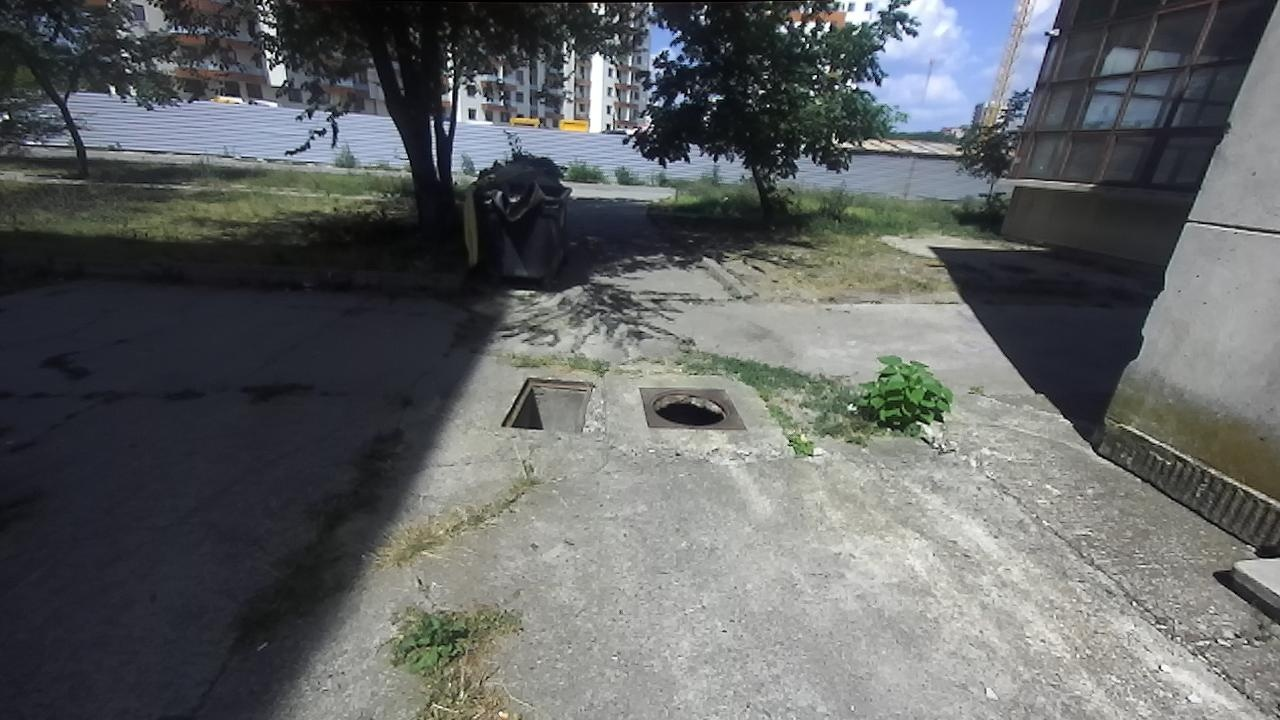drain: (498, 373, 594, 434), (650, 387, 730, 428)
